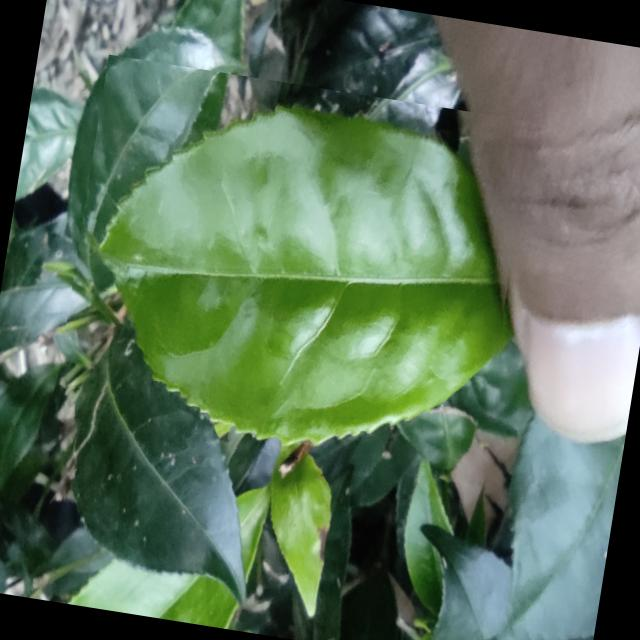Category C(4-7 days): (49, 54, 540, 502)
